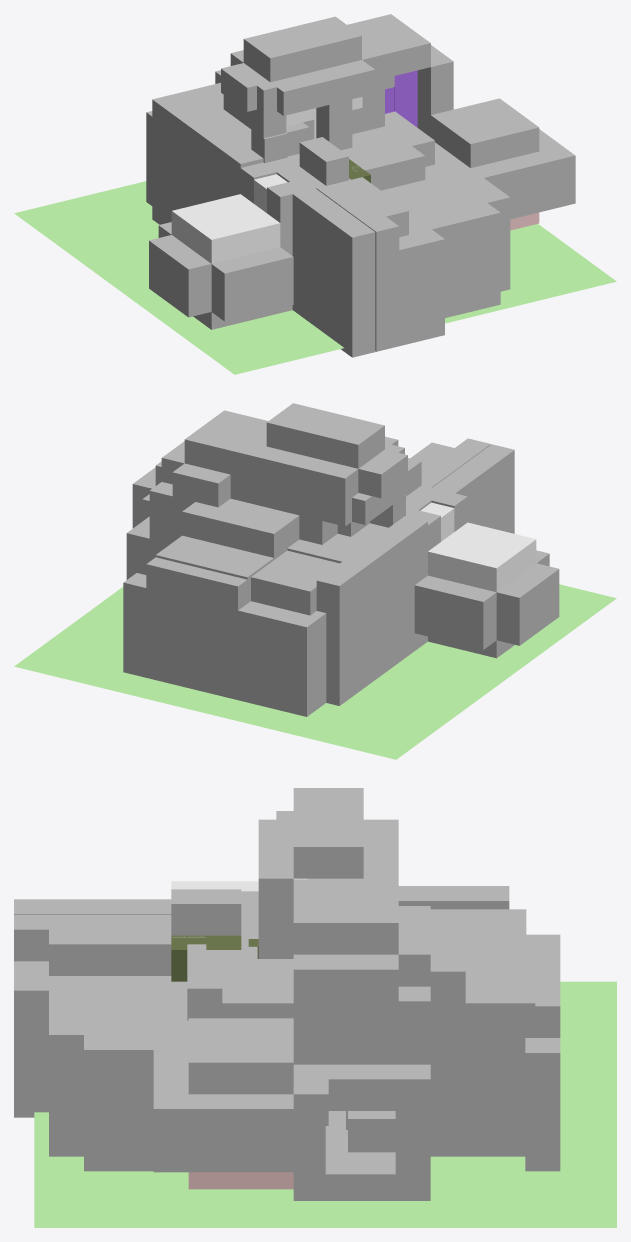
File: FirstSection.fbx
3 renders of one model, top to bottom at view 1: azimuth 30°, elevation 25°; view 2: azimuth 150°, elevation 25°; view 3: azimuth 270°, elevation 25°, orthographic. The views are drawn at different scales.
Visible parts, largest first — view 1: Plane__12_, Cube__570_, Cube__593_, Cube__524_, Cube__532_, Cube__313_, Cube__547_, Cube__470_, Cube__119_, Cube__583_, Cube__327_, Cube__199_ (+82 smaller); view 2: Plane__12_, Cube__570_, Cube__583_, Cube__332_, Cube__312_, Cube__551_, Cube__276_, Cube__531_, Cube__328_, Cube__523_, Cube__577_, Cube__186_ (+77 smaller); view 3: Plane__12_, Cube__570_, Cube__583_, Cube__199_, Cube__200_, Cube__201_, Cube__464_, Cube__465_, Cube__466_, Cube__95_, Cube__119_, Cube__168_ (+84 smaller).
Boxes of the visible parts, box(x1,y1,x2,y2) form: Plane__12_: box(14, 181, 616, 374); Cube__570_: box(152, 94, 263, 224); Cube__593_: box(339, 222, 375, 261); Cube__524_: box(198, 224, 234, 263); Cube__532_: box(211, 258, 247, 297); Cube__313_: box(257, 43, 293, 82); Cube__547_: box(175, 254, 211, 293); Cube__470_: box(457, 129, 493, 168); Cube__119_: box(313, 146, 348, 185); Cube__583_: box(175, 82, 228, 118); Cube__327_: box(271, 77, 306, 115); Cube__199_: box(417, 52, 453, 90); Plane__12_: box(14, 584, 616, 759); Cube__570_: box(316, 516, 427, 705); Cube__583_: box(251, 550, 339, 615); Cube__332_: box(322, 463, 358, 502); Cube__312_: box(335, 429, 371, 468); Cube__551_: box(496, 582, 532, 621); Cube__276_: box(251, 518, 287, 557); Cube__531_: box(460, 587, 496, 625); Cube__328_: box(358, 459, 394, 498); Cube__523_: box(473, 553, 509, 592); Cube__577_: box(284, 612, 320, 651); Cube__186_: box(195, 469, 230, 507); Plane__12_: box(34, 981, 616, 1227); Cube__570_: box(398, 886, 509, 909); Cube__583_: box(430, 909, 526, 944); Cube__199_: box(293, 954, 328, 1001); Cube__200_: box(328, 954, 363, 1001); Cube__201_: box(363, 954, 398, 1001); Cube__464_: box(188, 1047, 223, 1094); Cube__465_: box(223, 1047, 258, 1094); Cube__466_: box(258, 1047, 293, 1094); Cube__95_: box(206, 889, 241, 935); Cube__119_: box(171, 889, 206, 935); Cube__168_: box(328, 832, 363, 878).
Size of the model in its own units: 15150 by 9001 by 15525.
